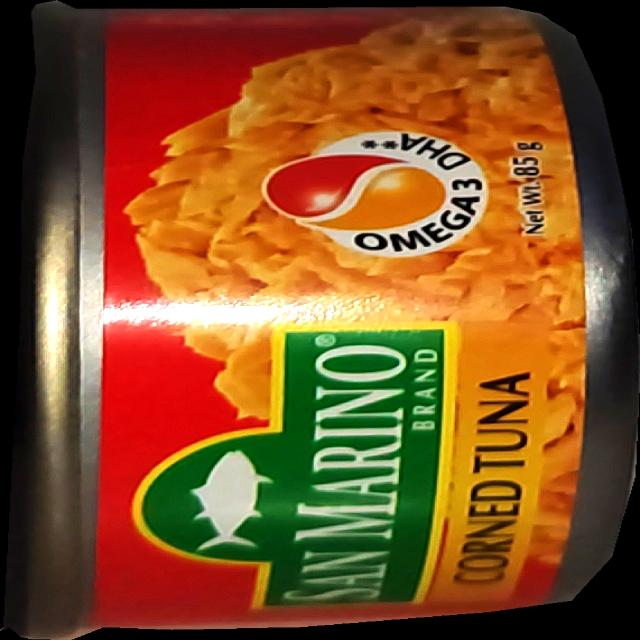san marino: (1, 0, 640, 640)
